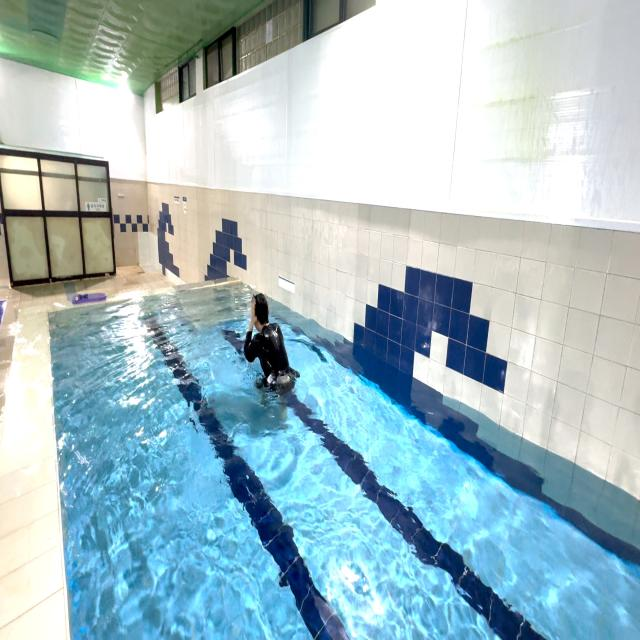Swimming: (244, 292, 300, 388)
